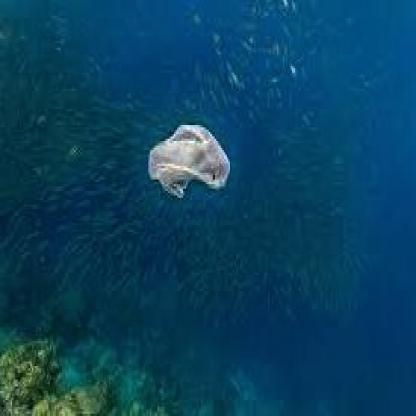pbag: (148, 123, 230, 200)
